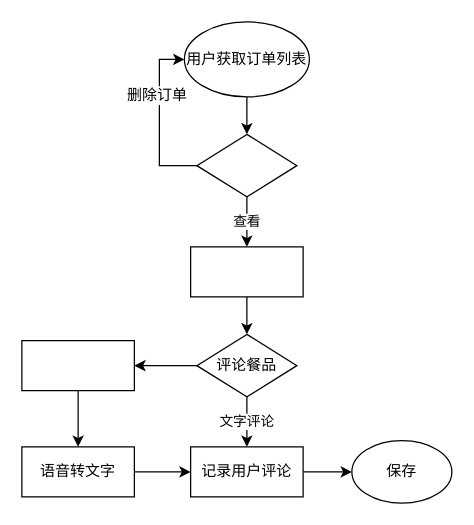
This 474x525 diagram has some shape labels left out. Here are the shapes that lost their labels. From the top down, the box of each, then its label:
(196, 133, 297, 197): 操作
(189, 246, 303, 297): 订餐详情
(21, 339, 134, 391): 语音评论
